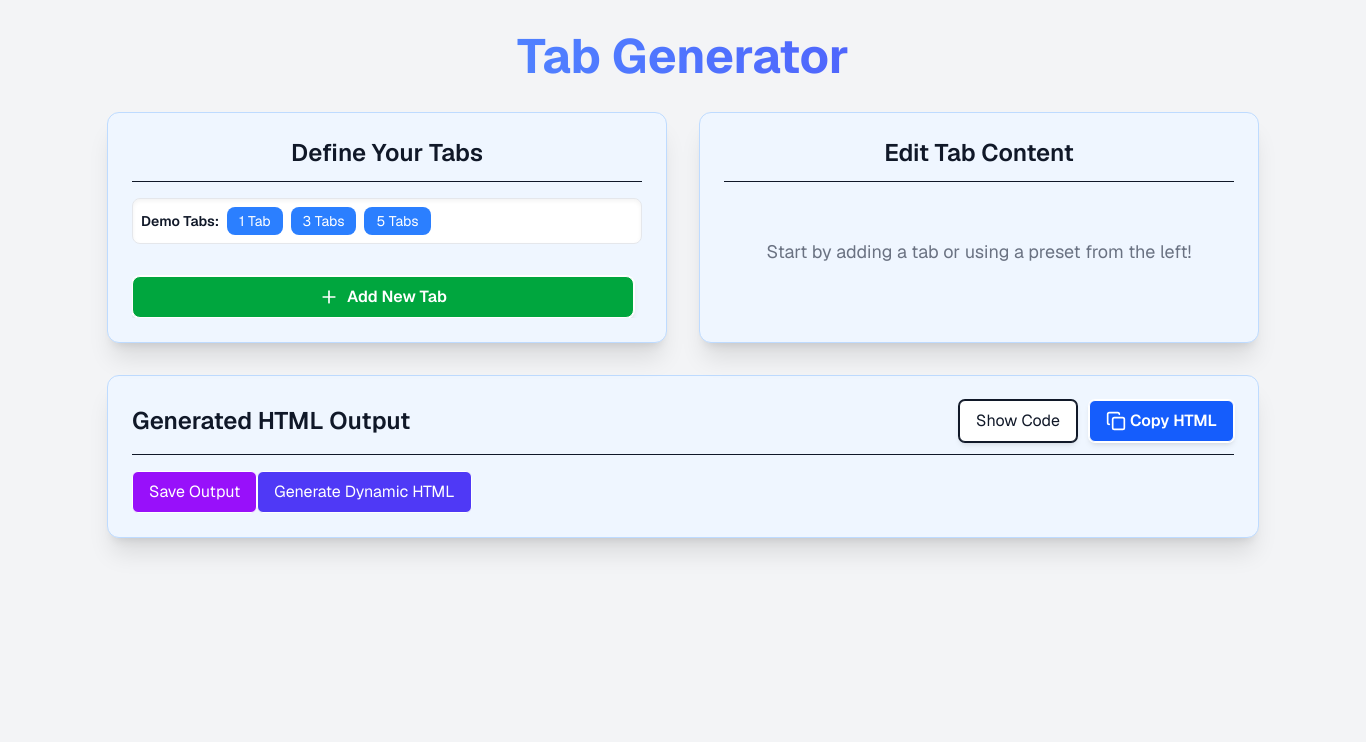
it: TabGenerator Component › Autogenerate tabs for 1, 3, 5 demo presets
Click the button "1 Tab".
click(255, 221)  # box x1=227 y1=207 x2=283 y2=235
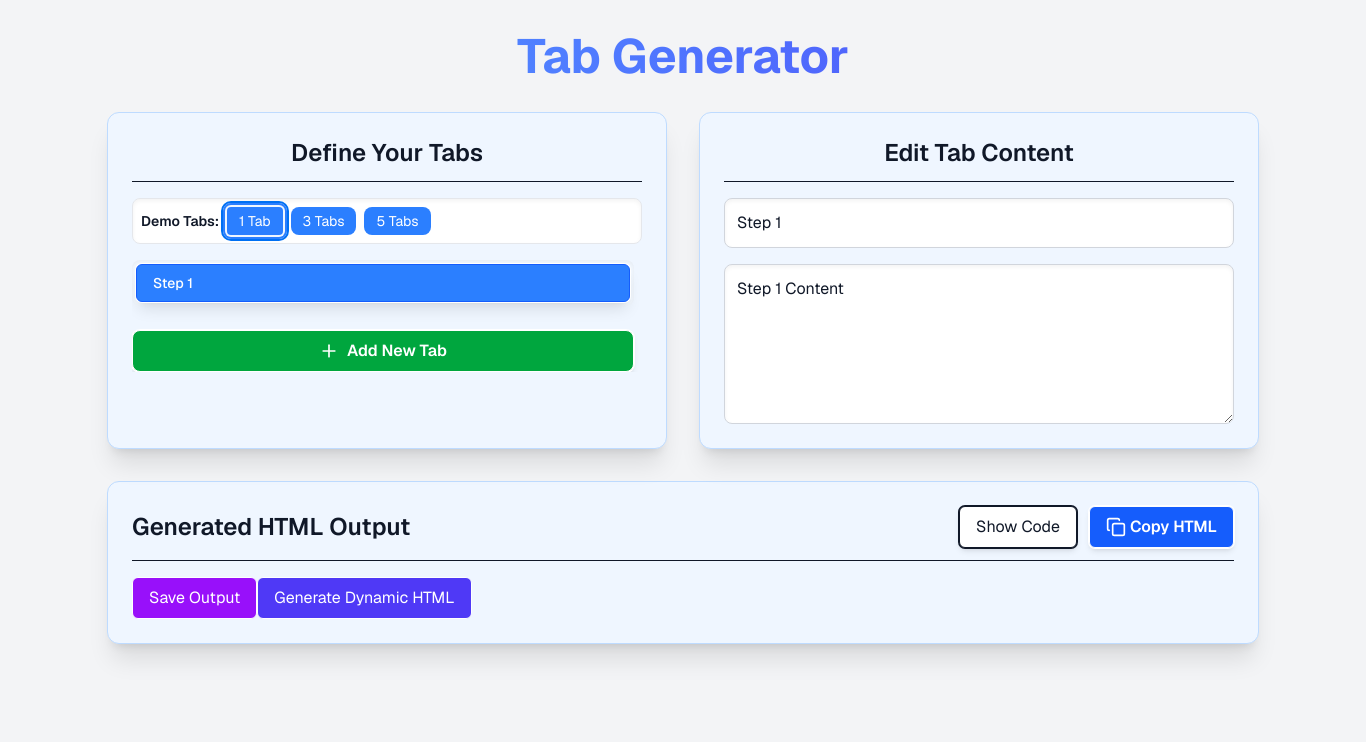
Now the number of tabs is 1, box x1=136 y1=264 x2=630 y2=302
Now the tab reads "Step 1", box x1=136 y1=264 x2=630 y2=302
Click the button "3 Tabs".
click(324, 221)  # box x1=291 y1=207 x2=356 y2=235
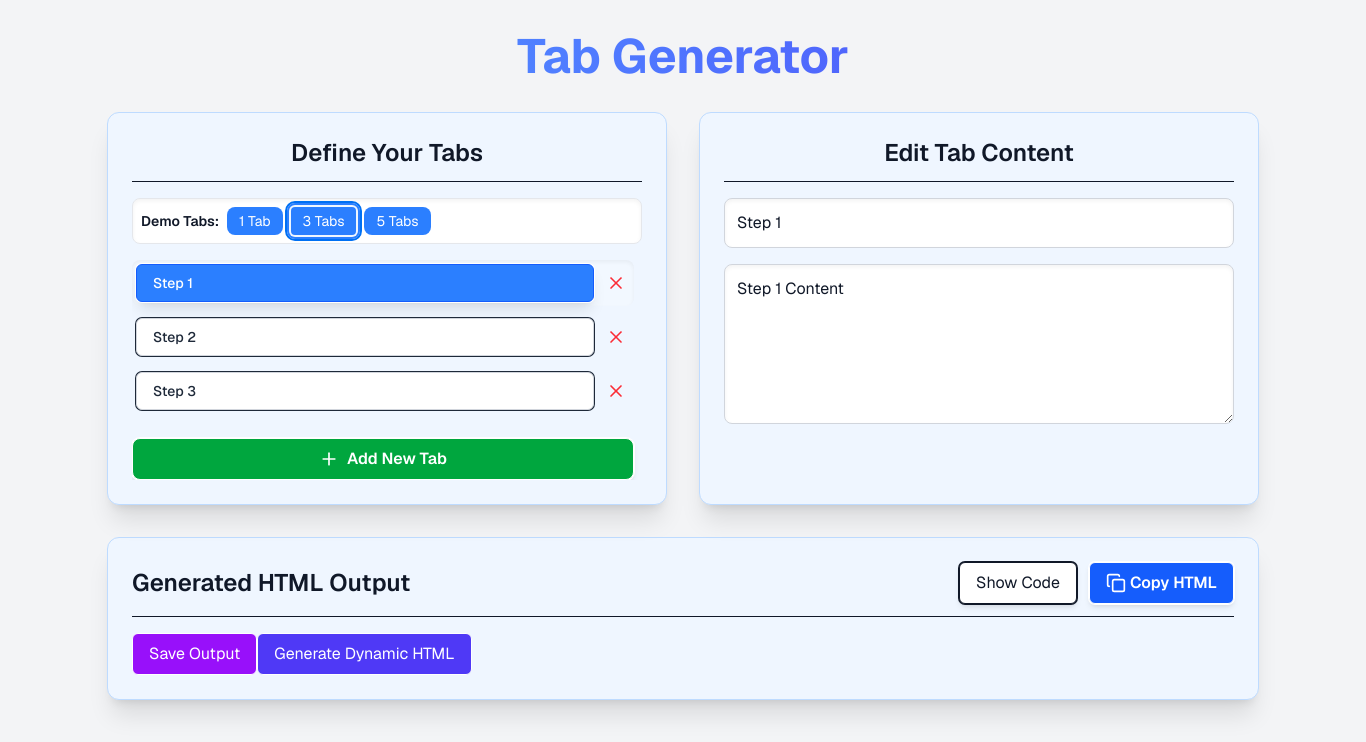
Now the number of tabs is 3, box x1=136 y1=264 x2=594 y2=302; x1=136 y1=318 x2=594 y2=356; x1=136 y1=372 x2=594 y2=410
Now the tabs read "Step 1", "Step 2", "Step 3", in this order, box x1=136 y1=264 x2=594 y2=302; x1=136 y1=318 x2=594 y2=356; x1=136 y1=372 x2=594 y2=410
Click the button "5 Tabs".
click(398, 221)  # box x1=364 y1=207 x2=431 y2=235
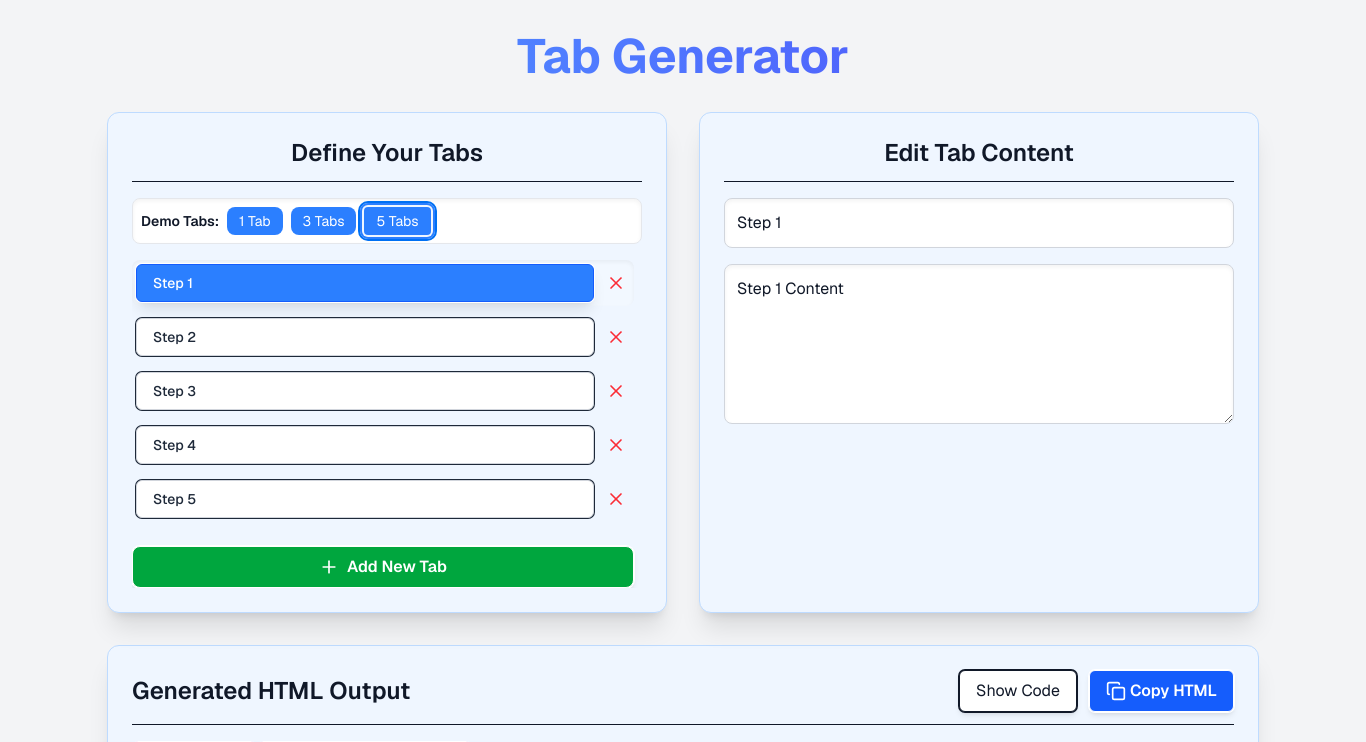
Now the number of tabs is 5, box x1=136 y1=264 x2=594 y2=302; x1=136 y1=318 x2=594 y2=356; x1=136 y1=372 x2=594 y2=410; x1=136 y1=426 x2=594 y2=464; x1=136 y1=480 x2=594 y2=518
Now the tabs read "Step 1", "Step 2", "Step 3", "Step 4", "Step 5", in this order, box x1=136 y1=264 x2=594 y2=302; x1=136 y1=318 x2=594 y2=356; x1=136 y1=372 x2=594 y2=410; x1=136 y1=426 x2=594 y2=464; x1=136 y1=480 x2=594 y2=518
